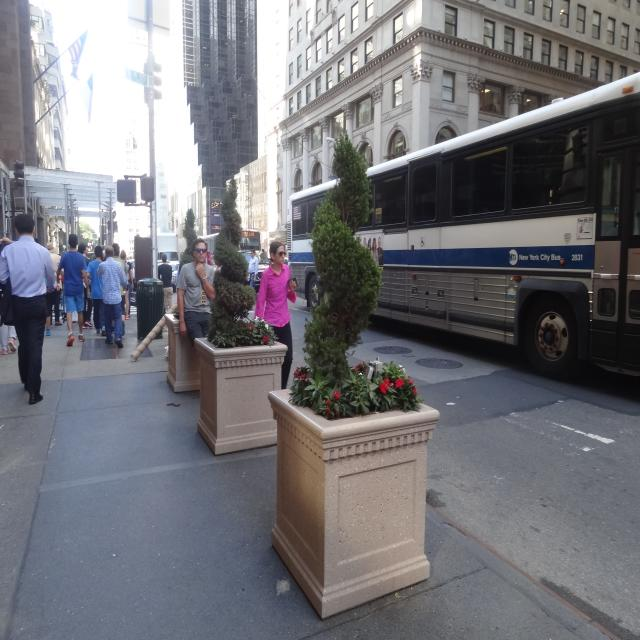body: (0, 210, 58, 407), (253, 240, 300, 392), (176, 238, 216, 348), (55, 231, 92, 348), (96, 244, 125, 349), (0, 237, 18, 354), (84, 245, 106, 337), (46, 241, 65, 326), (77, 243, 94, 329), (112, 242, 127, 336), (120, 249, 134, 317), (356, 233, 384, 267), (158, 254, 173, 314), (120, 251, 130, 320), (246, 248, 259, 301), (45, 277, 55, 336), (130, 262, 135, 292), (100, 248, 107, 260)
